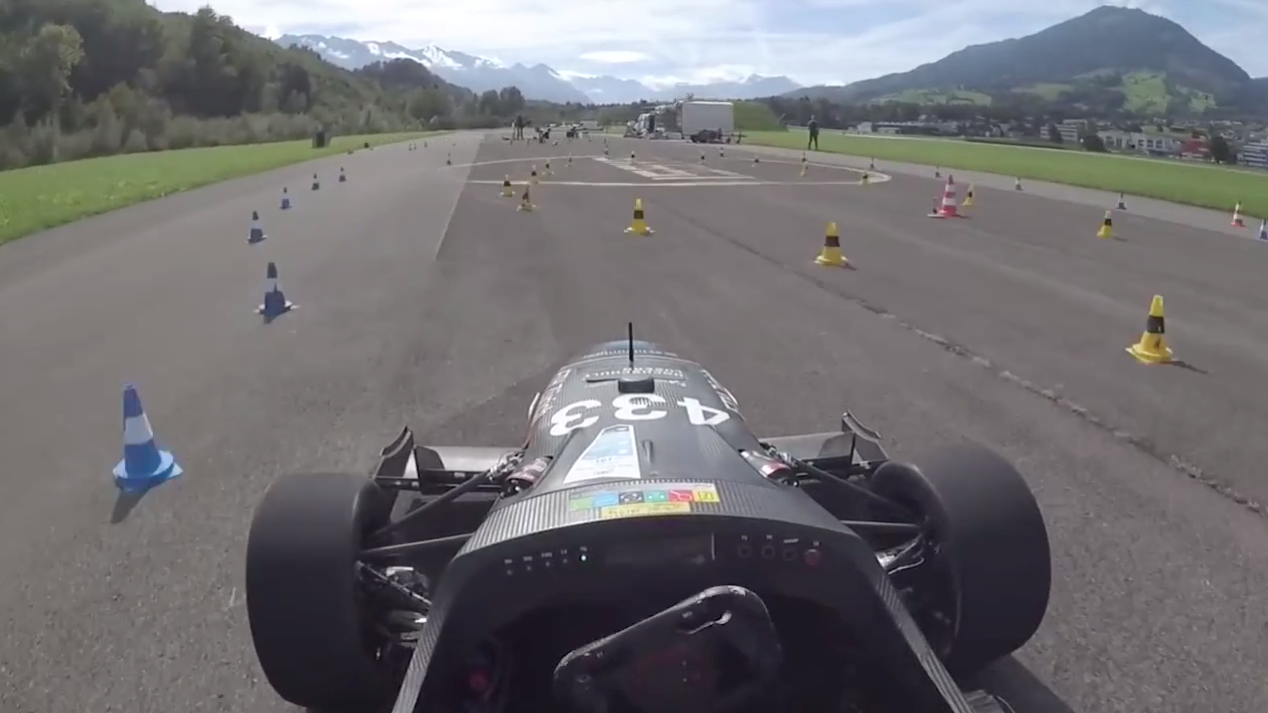lcone: (97, 373, 197, 499), (251, 258, 300, 319), (241, 206, 269, 244)
rcone: (1118, 290, 1186, 370), (813, 217, 861, 274), (620, 194, 655, 238)
